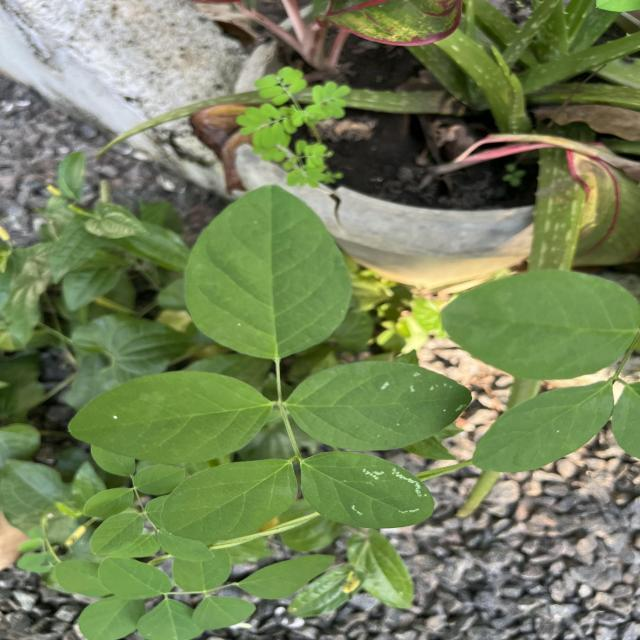Clitoria ternatea: (184, 182, 354, 361), (68, 370, 274, 466), (284, 359, 474, 452), (160, 458, 298, 542), (300, 452, 436, 530)
